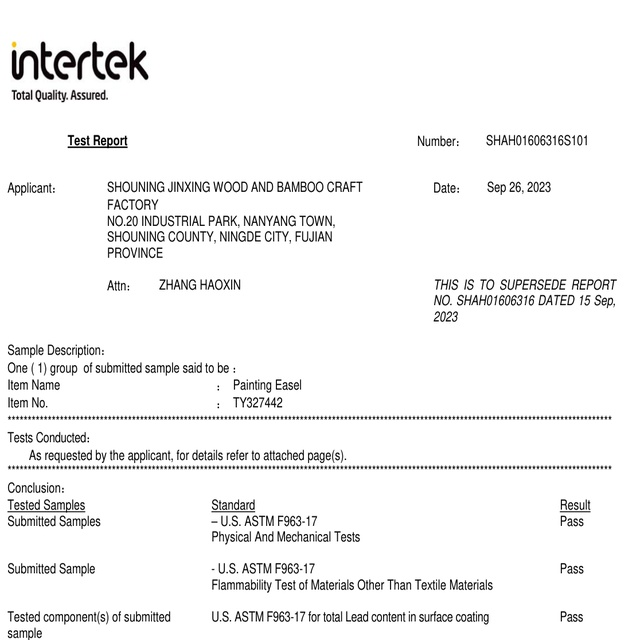intertek: (0, 28, 157, 86)
